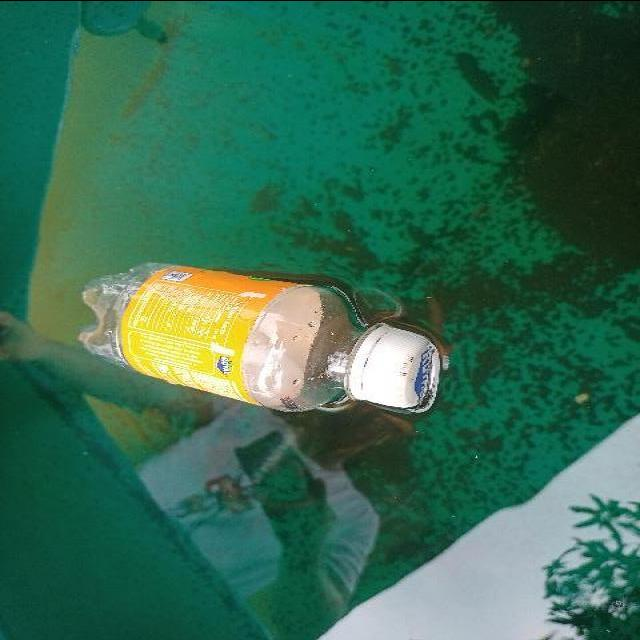Bottle: (71, 254, 450, 432)
